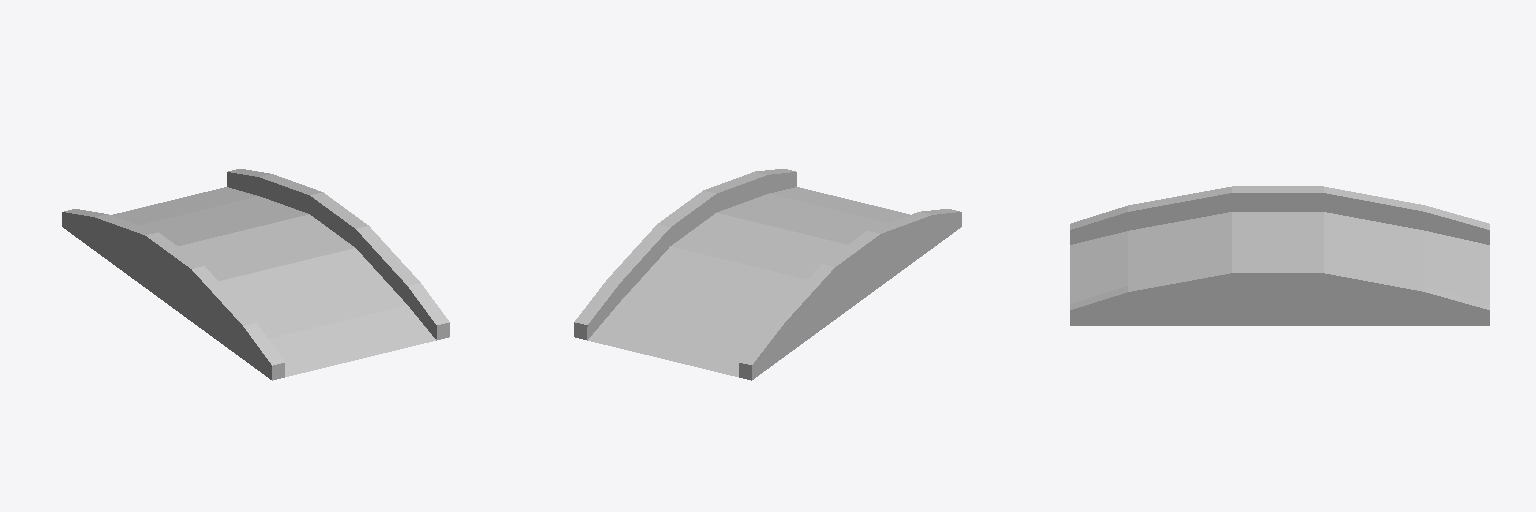
File: cf_col_bridge.obj
3 views of the same model, side by side, from view 1: azimuth 30°, elevation 25°; view 2: azimuth 150°, elevation 25°; view 3: azimuth 270°, elevation 25° (orthographic).
Visible parts, largest first — view 1: bridge_collision_Mesh.002; view 2: bridge_collision_Mesh.002; view 3: bridge_collision_Mesh.002.
Boxes of the visible parts, box(x1,y1,x2,y2) form: bridge_collision_Mesh.002: box(62, 169, 449, 380); bridge_collision_Mesh.002: box(574, 169, 961, 380); bridge_collision_Mesh.002: box(1070, 186, 1489, 325).
Size of the model in its own units: 9.85 by 2.77 by 20.15.